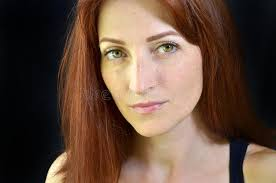white_female: (74, 15, 215, 136)
